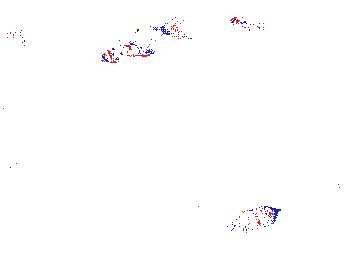X-ray fish: (226, 205, 279, 233), (59, 91, 91, 117)
glassfish: (280, 176, 346, 220)
red belly glassfish: (227, 15, 266, 34), (6, 27, 35, 45)
redtail glassfish: (99, 11, 186, 66)
